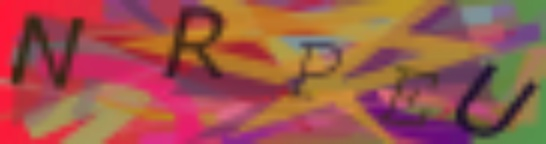E: (374, 66, 444, 127)
N: (8, 13, 86, 92)
P: (282, 37, 348, 104)
R: (161, 2, 229, 82)
U: (452, 60, 539, 141)
